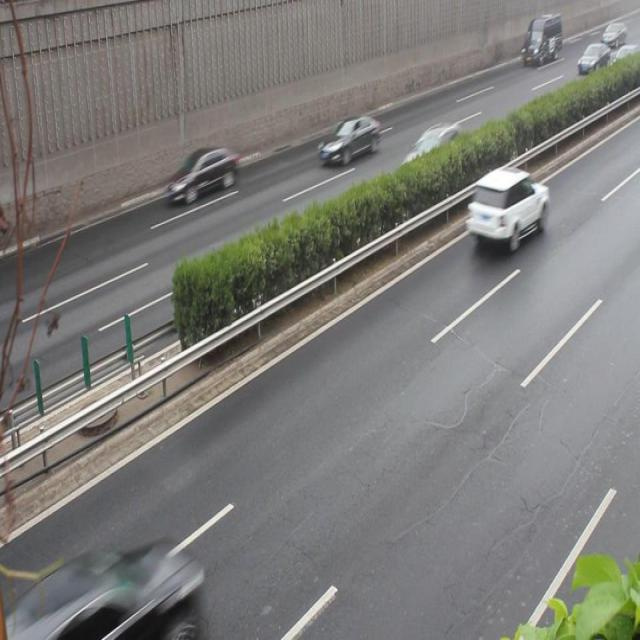car: (466, 166, 548, 248), (166, 144, 240, 208), (402, 123, 466, 177), (318, 115, 380, 167)
